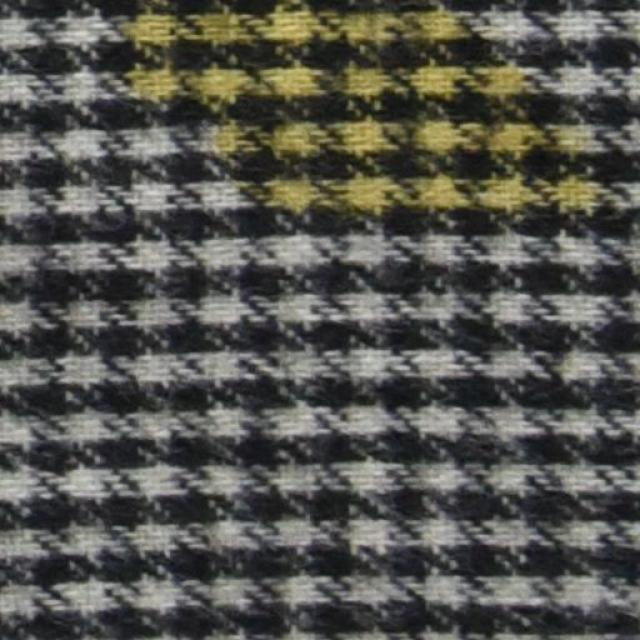Stain: (101, 0, 623, 244)
